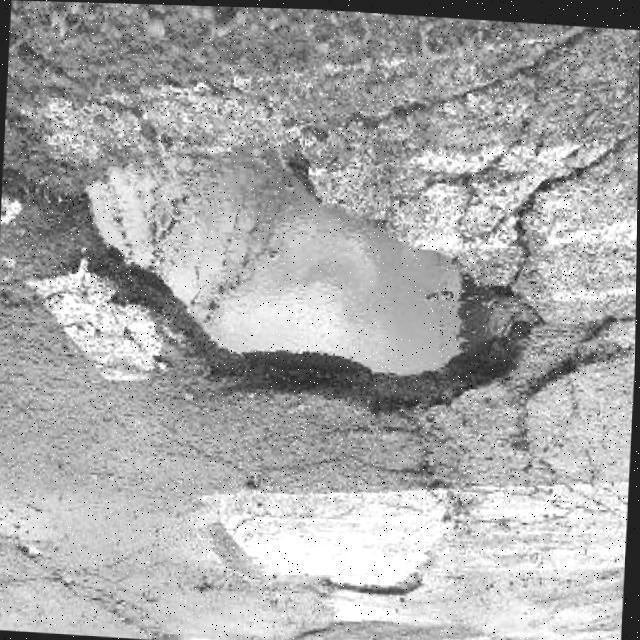pothole: (67, 117, 559, 436), (312, 560, 428, 603)
